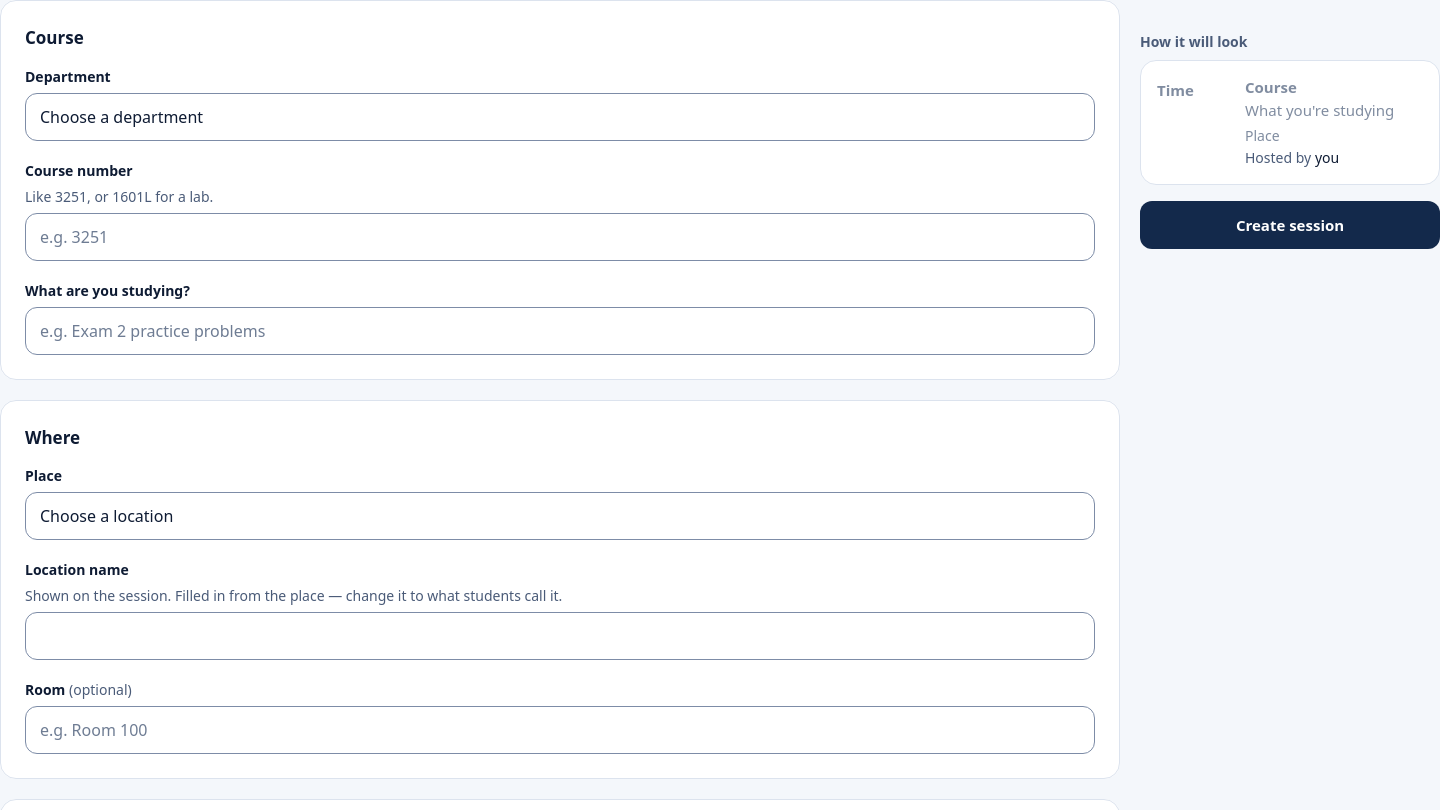
Scenario: <CreateSessionForm> course typeahead › suggests courses in the chosen department with how often each was used
Select "CS — Computer Science" in the dropdown labelled "Department": coordinates (560, 116) [25,92,1095,140]
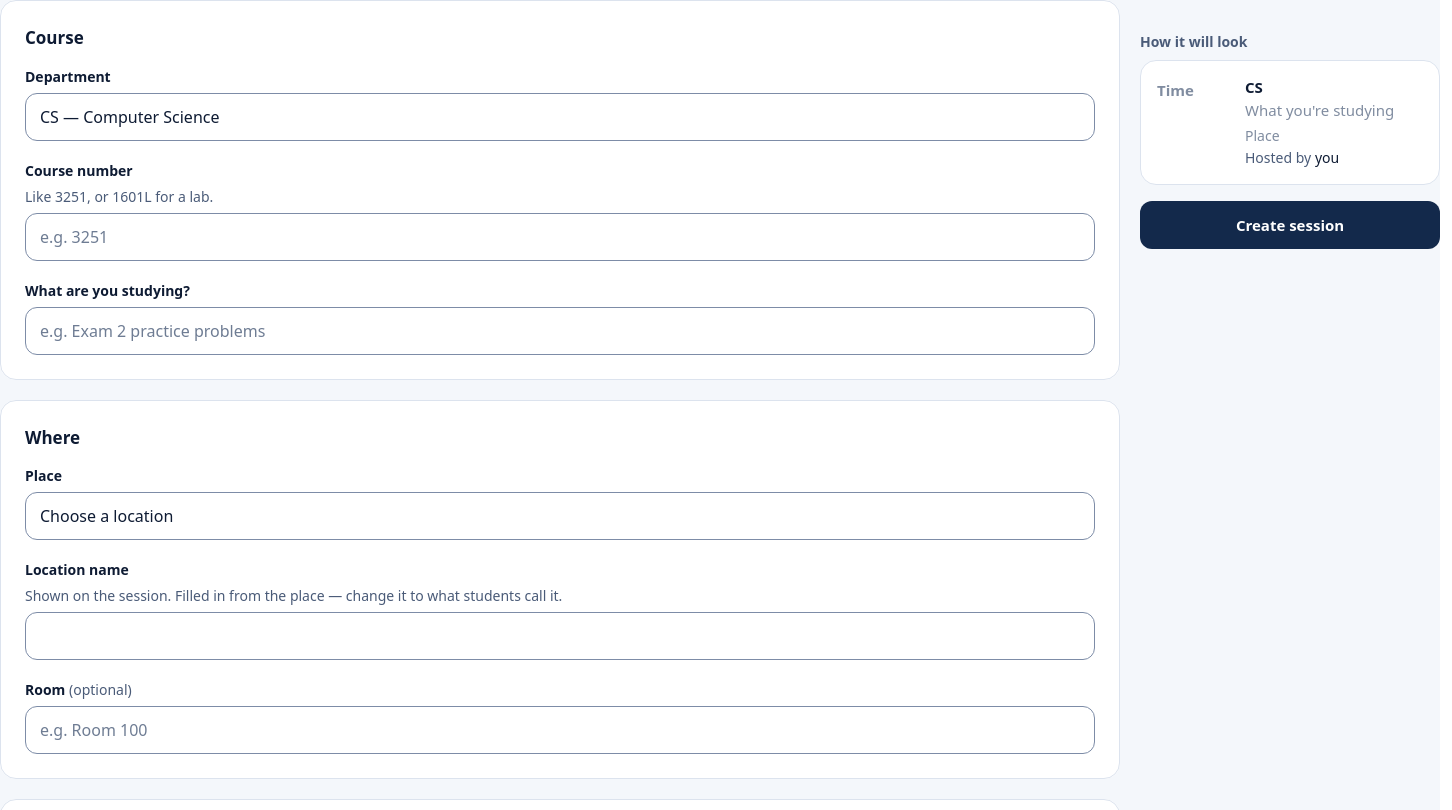
In the dropdown labelled "Course number": coordinates (560, 236) [25,212,1095,260], type "3"
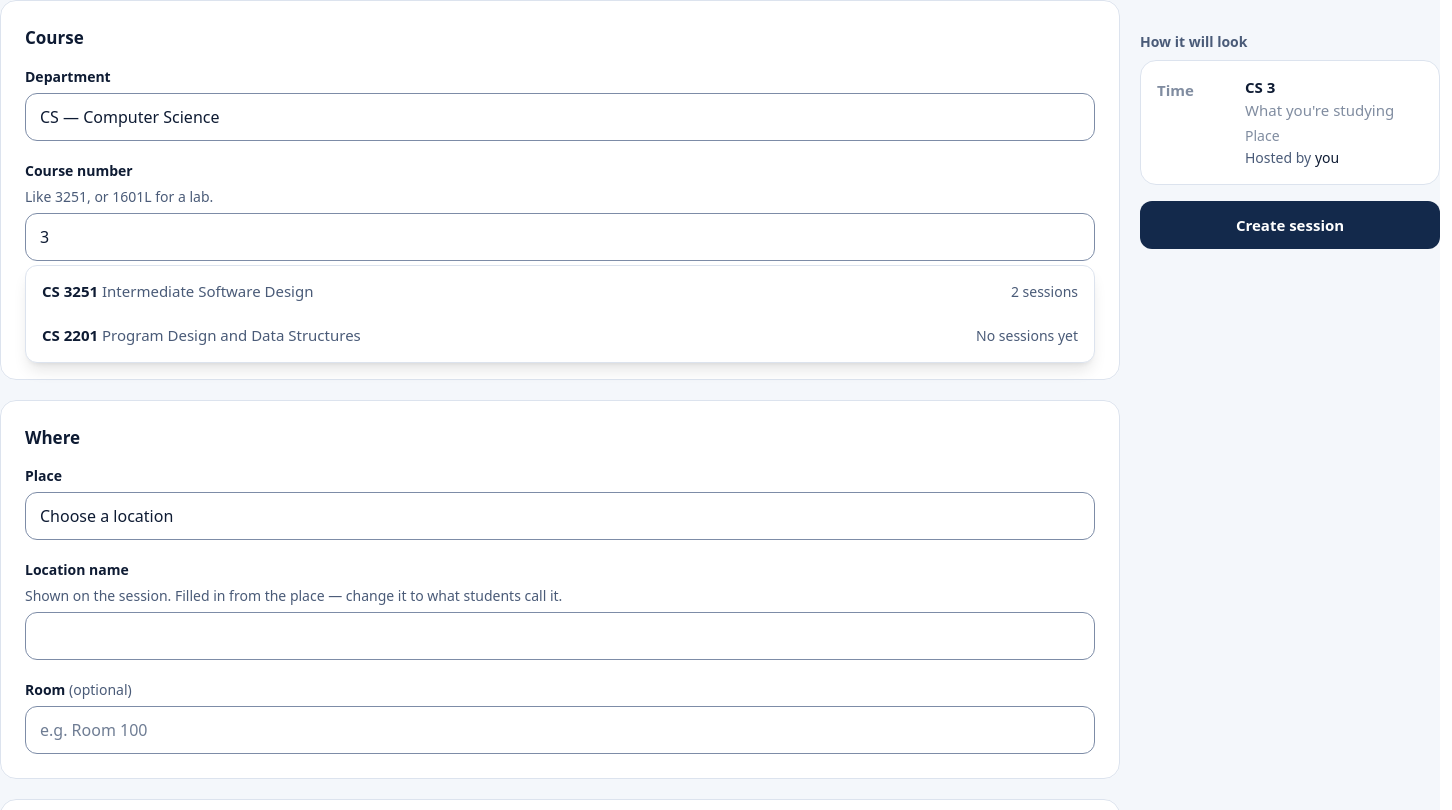
Expected: the option "CS 3251 Intermediate Software Design 2 sessions" is shown
Expected: the option "CS 2201 Program Design and Data Structures No sessions yet" is shown, [42,325,1078,345]
Click the option "CS 3251 Intermediate Software Design 2 sessions": coordinates (81, 291) [42,281,1078,301]
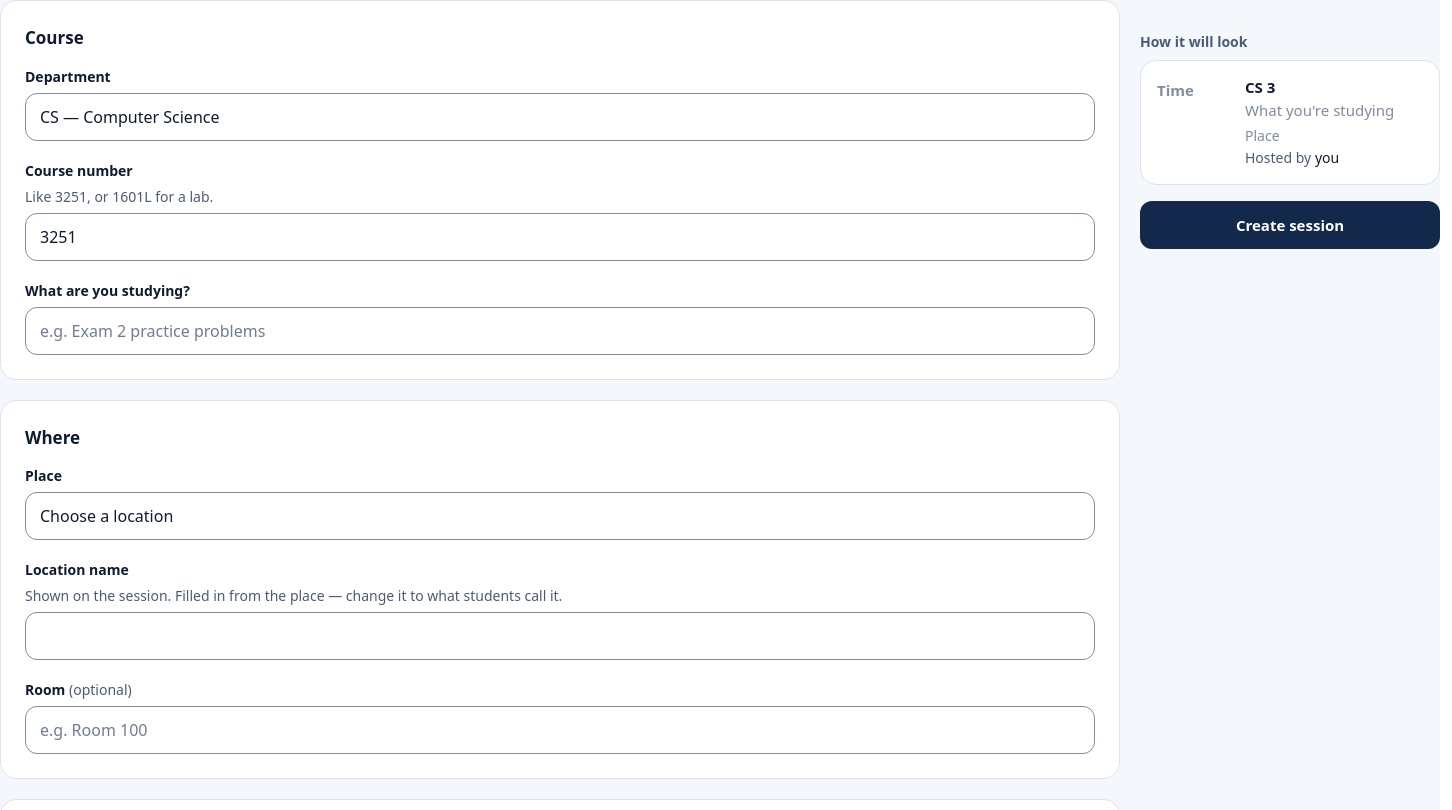
Expected: the dropdown labelled "Course number" holds "3251", [25,212,1095,260]
Expected: the list is gone
